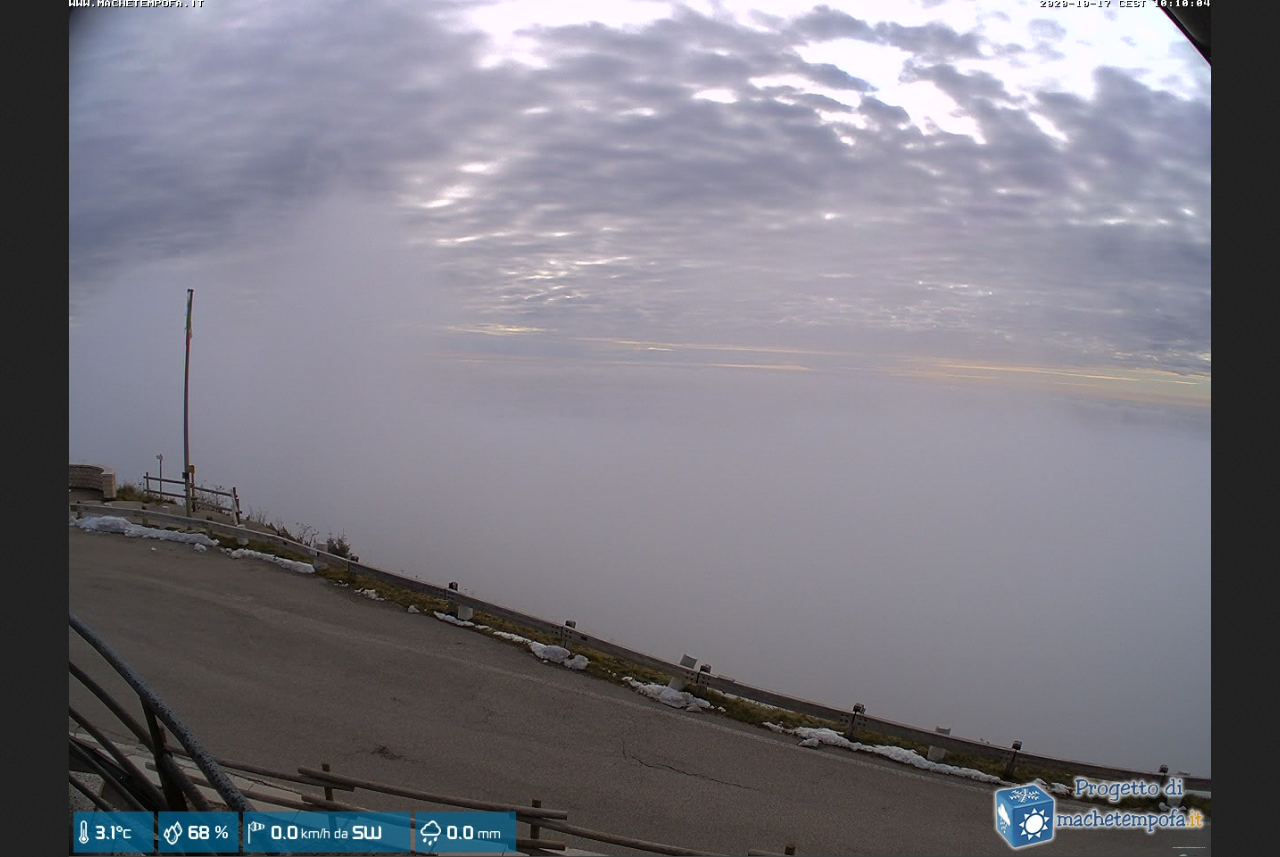no: (184, 294, 195, 349)
